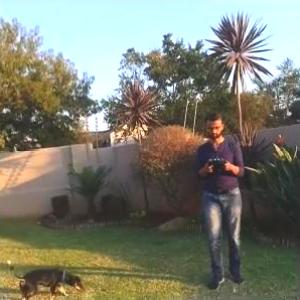follow: (194, 107, 249, 290)
null: (5, 257, 90, 299)
